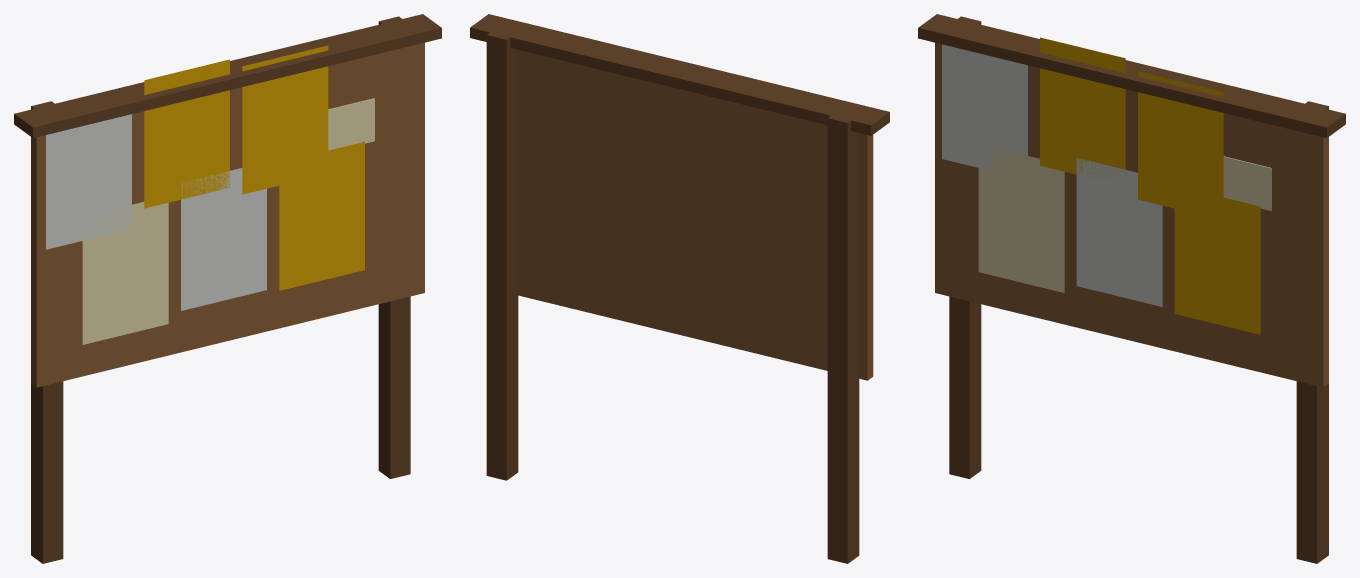
File: prop_poster-board.glb
3 renders of one model, left to right at view 1: azimuth 30°, elevation 25°; view 2: azimuth 150°, elevation 25°; view 3: azimuth 330°, elevation 25°, orthographic.
Visible parts, largest first — view 1: body; view 2: body; view 3: body.
Part boxes in pixels (x1=…): body: x1=14, y1=14, x2=441, y2=563; body: x1=470, y1=14, x2=889, y2=563; body: x1=918, y1=14, x2=1345, y2=563.
Size of the model in its own units: 2 by 2.17 by 0.19.
